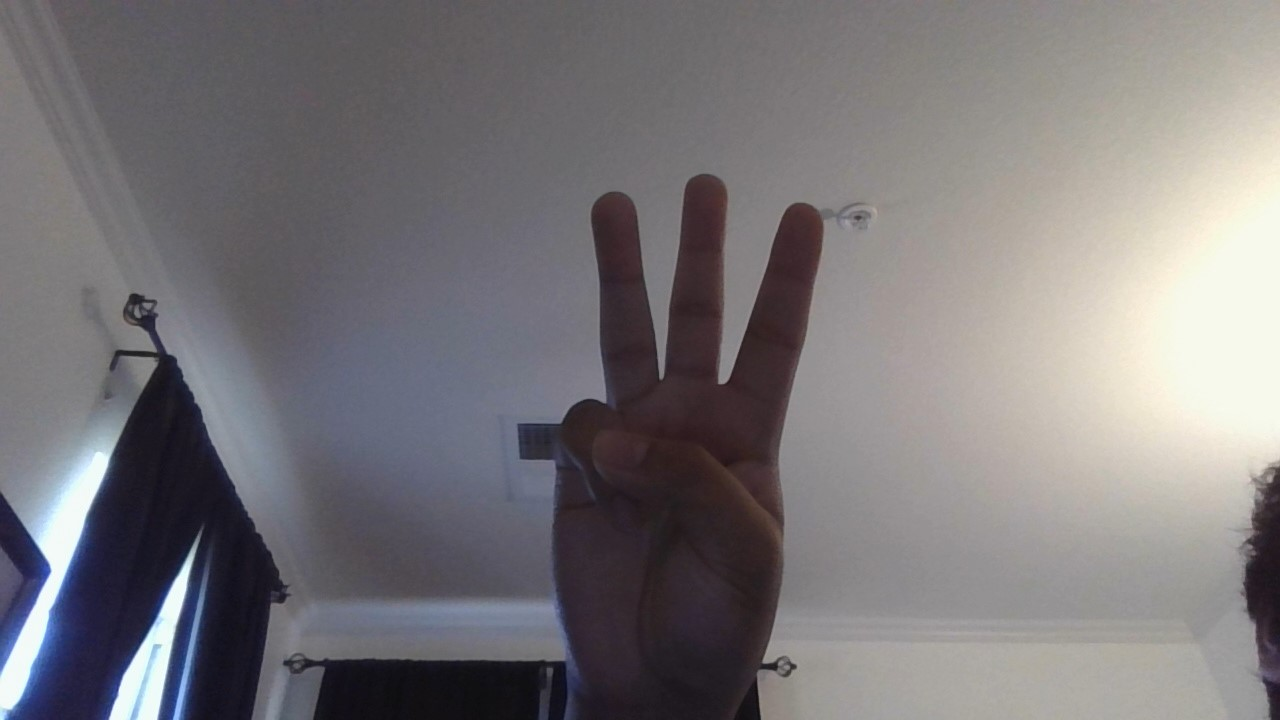w: (508, 155, 855, 707)
